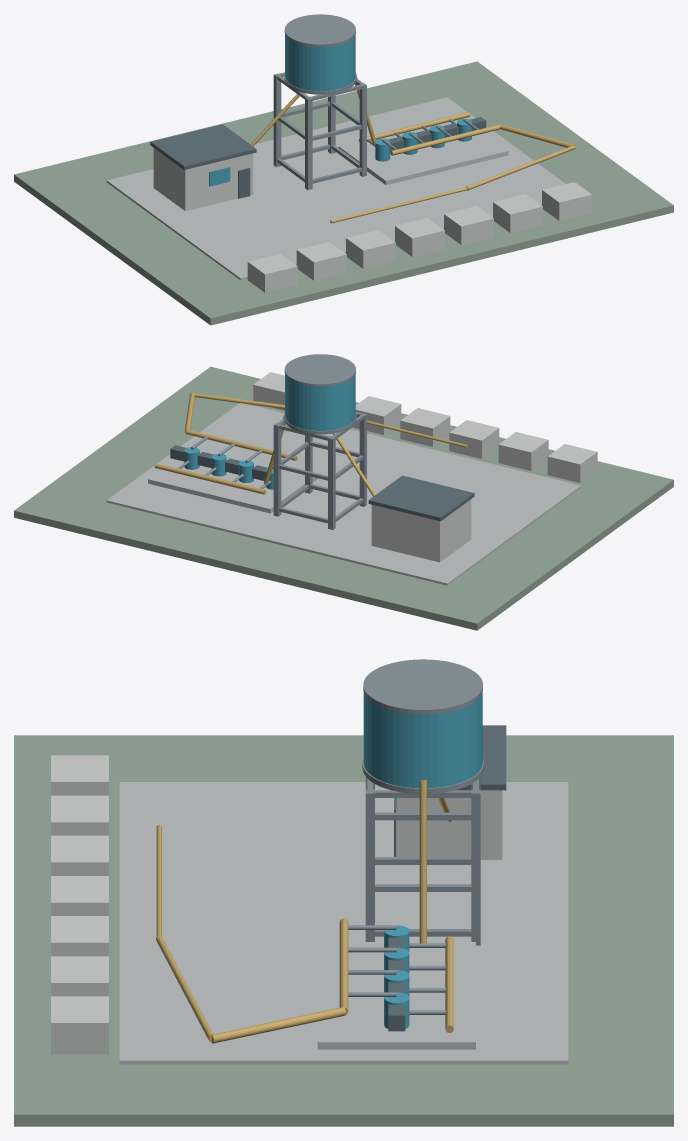
Rendered from planta_pescaito_conceptual.glb.
The picture shows the model from 3 angles, top to bottom: view 1: azimuth 30°, elevation 25°; view 2: azimuth 150°, elevation 25°; view 3: azimuth 270°, elevation 25°; orthographic projection. The views are drawn at different scales.
Visible parts, largest first — view 1: pieza_0, pieza_1, pieza_28, pieza_2, pieza_22, pieza_3, pieza_23, pieza_50, pieza_51, pieza_56, pieza_52, pieza_53 (+9 smaller); view 2: pieza_0, pieza_1, pieza_2, pieza_28, pieza_22, pieza_3, pieza_23, pieza_50, pieza_51, pieza_52, pieza_53, pieza_54 (+7 smaller); view 3: pieza_0, pieza_1, pieza_28, pieza_22, pieza_23, pieza_2, pieza_56, pieza_50, pieza_51, pieza_52, pieza_54, pieza_55 (+13 smaller).
Part boxes in pixels (x1,y1,x2,y2): pieza_0: (14,61,673,325); pieza_1: (106,97,565,280); pieza_28: (338,118,508,184); pieza_2: (153,148,253,210); pieza_22: (285,34,355,91); pieza_3: (150,124,256,169); pieza_23: (284,14,355,46); pieza_50: (247,254,297,292); pieza_51: (296,242,346,280); pieza_56: (542,182,591,220); pieza_52: (346,230,395,268); pieza_53: (395,218,444,256); pieza_0: (14,366,673,630); pieza_1: (106,403,581,585); pieza_2: (371,499,471,562); pieza_28: (148,445,317,513); pieza_22: (285,374,355,430); pieza_3: (368,475,474,521); pieza_23: (284,354,355,386); pieza_50: (547,444,597,482); pieza_51: (498,432,548,470); pieza_52: (449,420,499,458); pieza_53: (400,408,450,446); pieza_54: (352,396,401,434); pieza_0: (14,735,673,1126); pieza_1: (119,782,568,1064); pieza_28: (317,942,475,1049); pieza_22: (363,692,482,788); pieza_23: (363,659,482,714); pieza_2: (396,790,502,859); pieza_56: (51,996,108,1054); pieza_50: (51,755,108,795); pieza_51: (51,795,108,835); pieza_52: (51,835,108,875); pieza_54: (51,916,108,956); pieza_55: (51,956,108,996).
Bounding box in the file's own units: 34 × 10.54 × 25.
